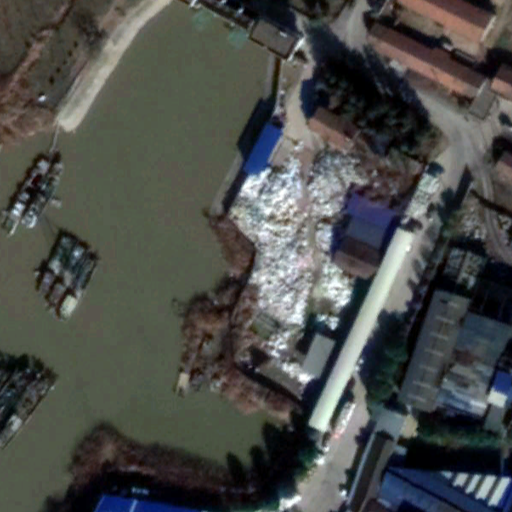msw: (237, 146, 366, 385)
